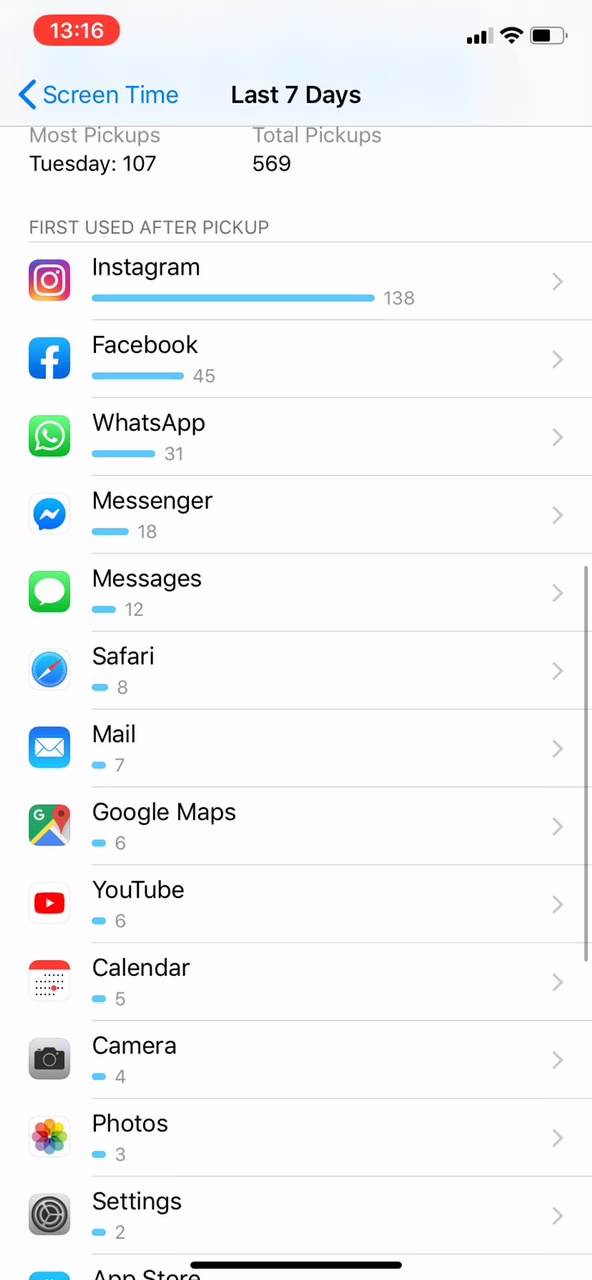pick_app: (25, 236, 451, 314), (23, 633, 317, 707), (20, 552, 298, 627), (20, 317, 248, 400), (18, 863, 251, 941), (18, 713, 267, 785), (17, 477, 272, 547), (17, 791, 272, 860), (14, 1174, 223, 1253), (18, 402, 247, 472), (17, 1017, 225, 1094), (20, 946, 237, 1014), (15, 1099, 203, 1172)
week: (215, 83, 374, 111)
